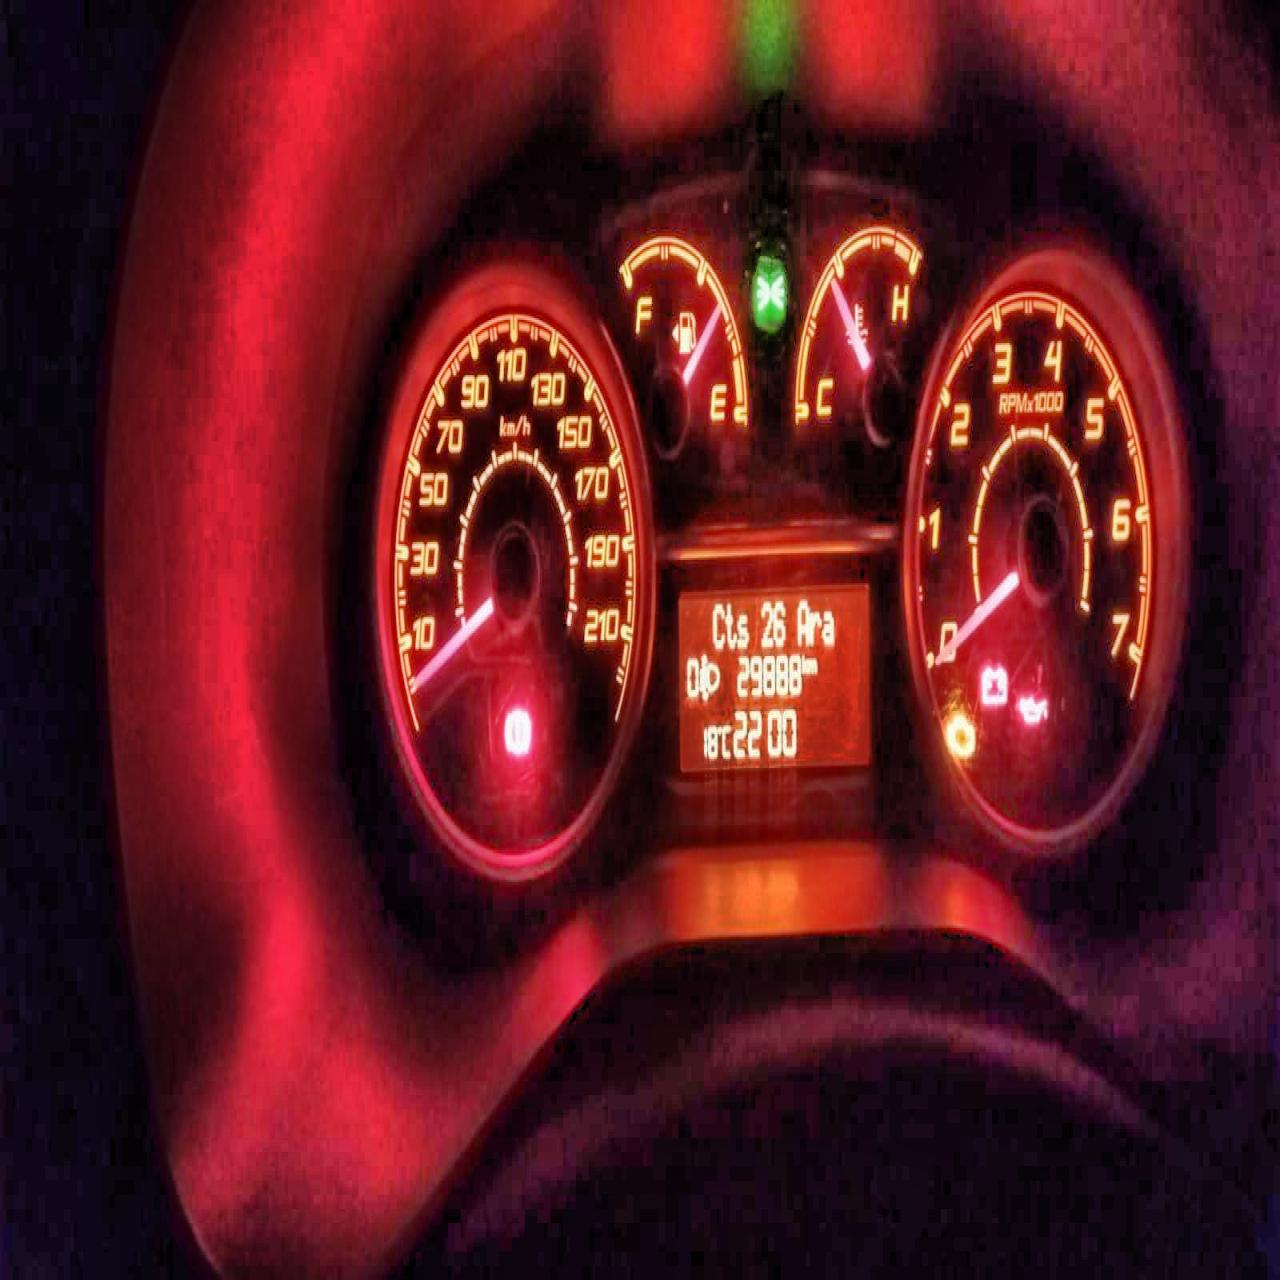0: (782, 706, 797, 757), (767, 706, 781, 756), (686, 654, 699, 696)
1: (702, 723, 707, 757)
2: (747, 708, 762, 757), (733, 708, 747, 760), (760, 598, 772, 648), (735, 654, 749, 696)
6: (772, 595, 787, 647)
8: (775, 651, 788, 695), (789, 651, 801, 695), (763, 653, 775, 695), (707, 722, 717, 760)
9: (749, 651, 762, 697)
X: (795, 595, 810, 646), (712, 601, 724, 649), (726, 599, 737, 651), (737, 606, 749, 648), (822, 607, 835, 645), (809, 608, 821, 644), (722, 720, 730, 761), (808, 656, 819, 675), (801, 649, 809, 674)
odometer: (674, 588, 871, 777)
